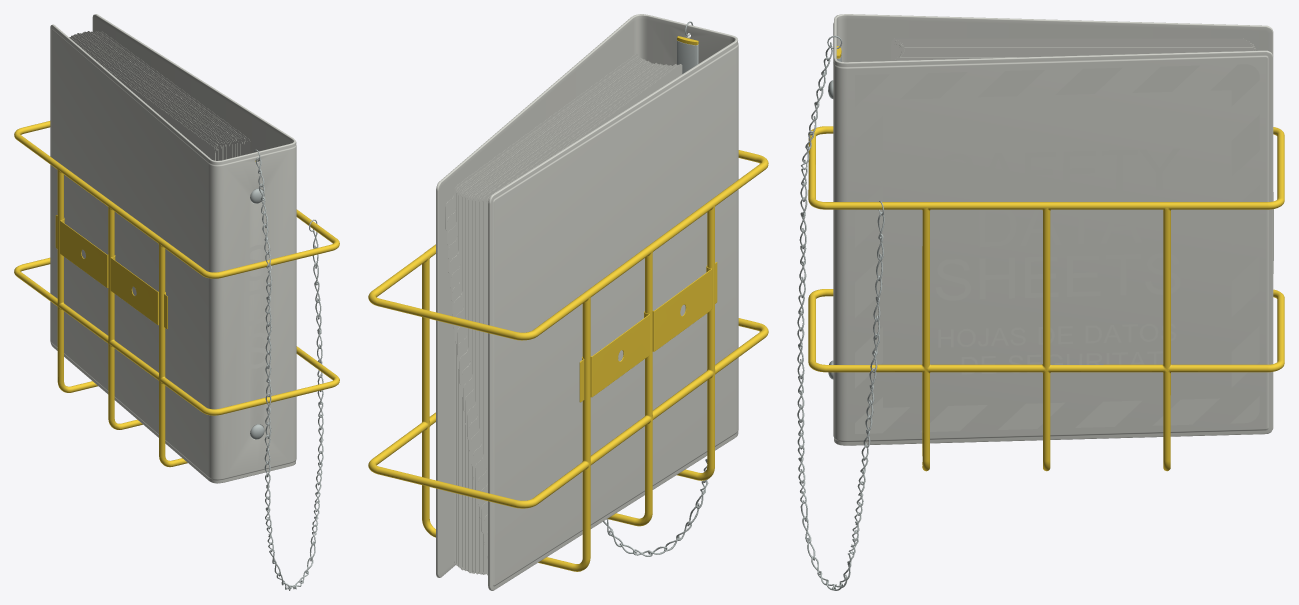
Rendered from safety_msdsBinder_wallMounted_a01.glb.
The picture shows the model from 3 angles, left to right: view 1: azimuth 30°, elevation 25°; view 2: azimuth 150°, elevation 25°; view 3: azimuth 270°, elevation 25°; orthographic projection. The views are drawn at different scales.
Size of the model in its own units: 0.1379 by 0.4152 by 0.3463.
